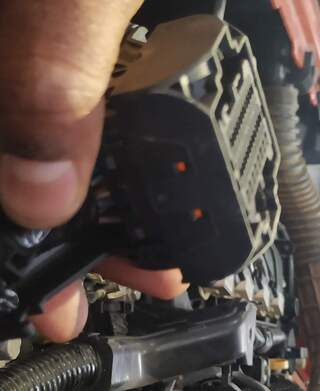connector: (90, 16, 282, 286)
